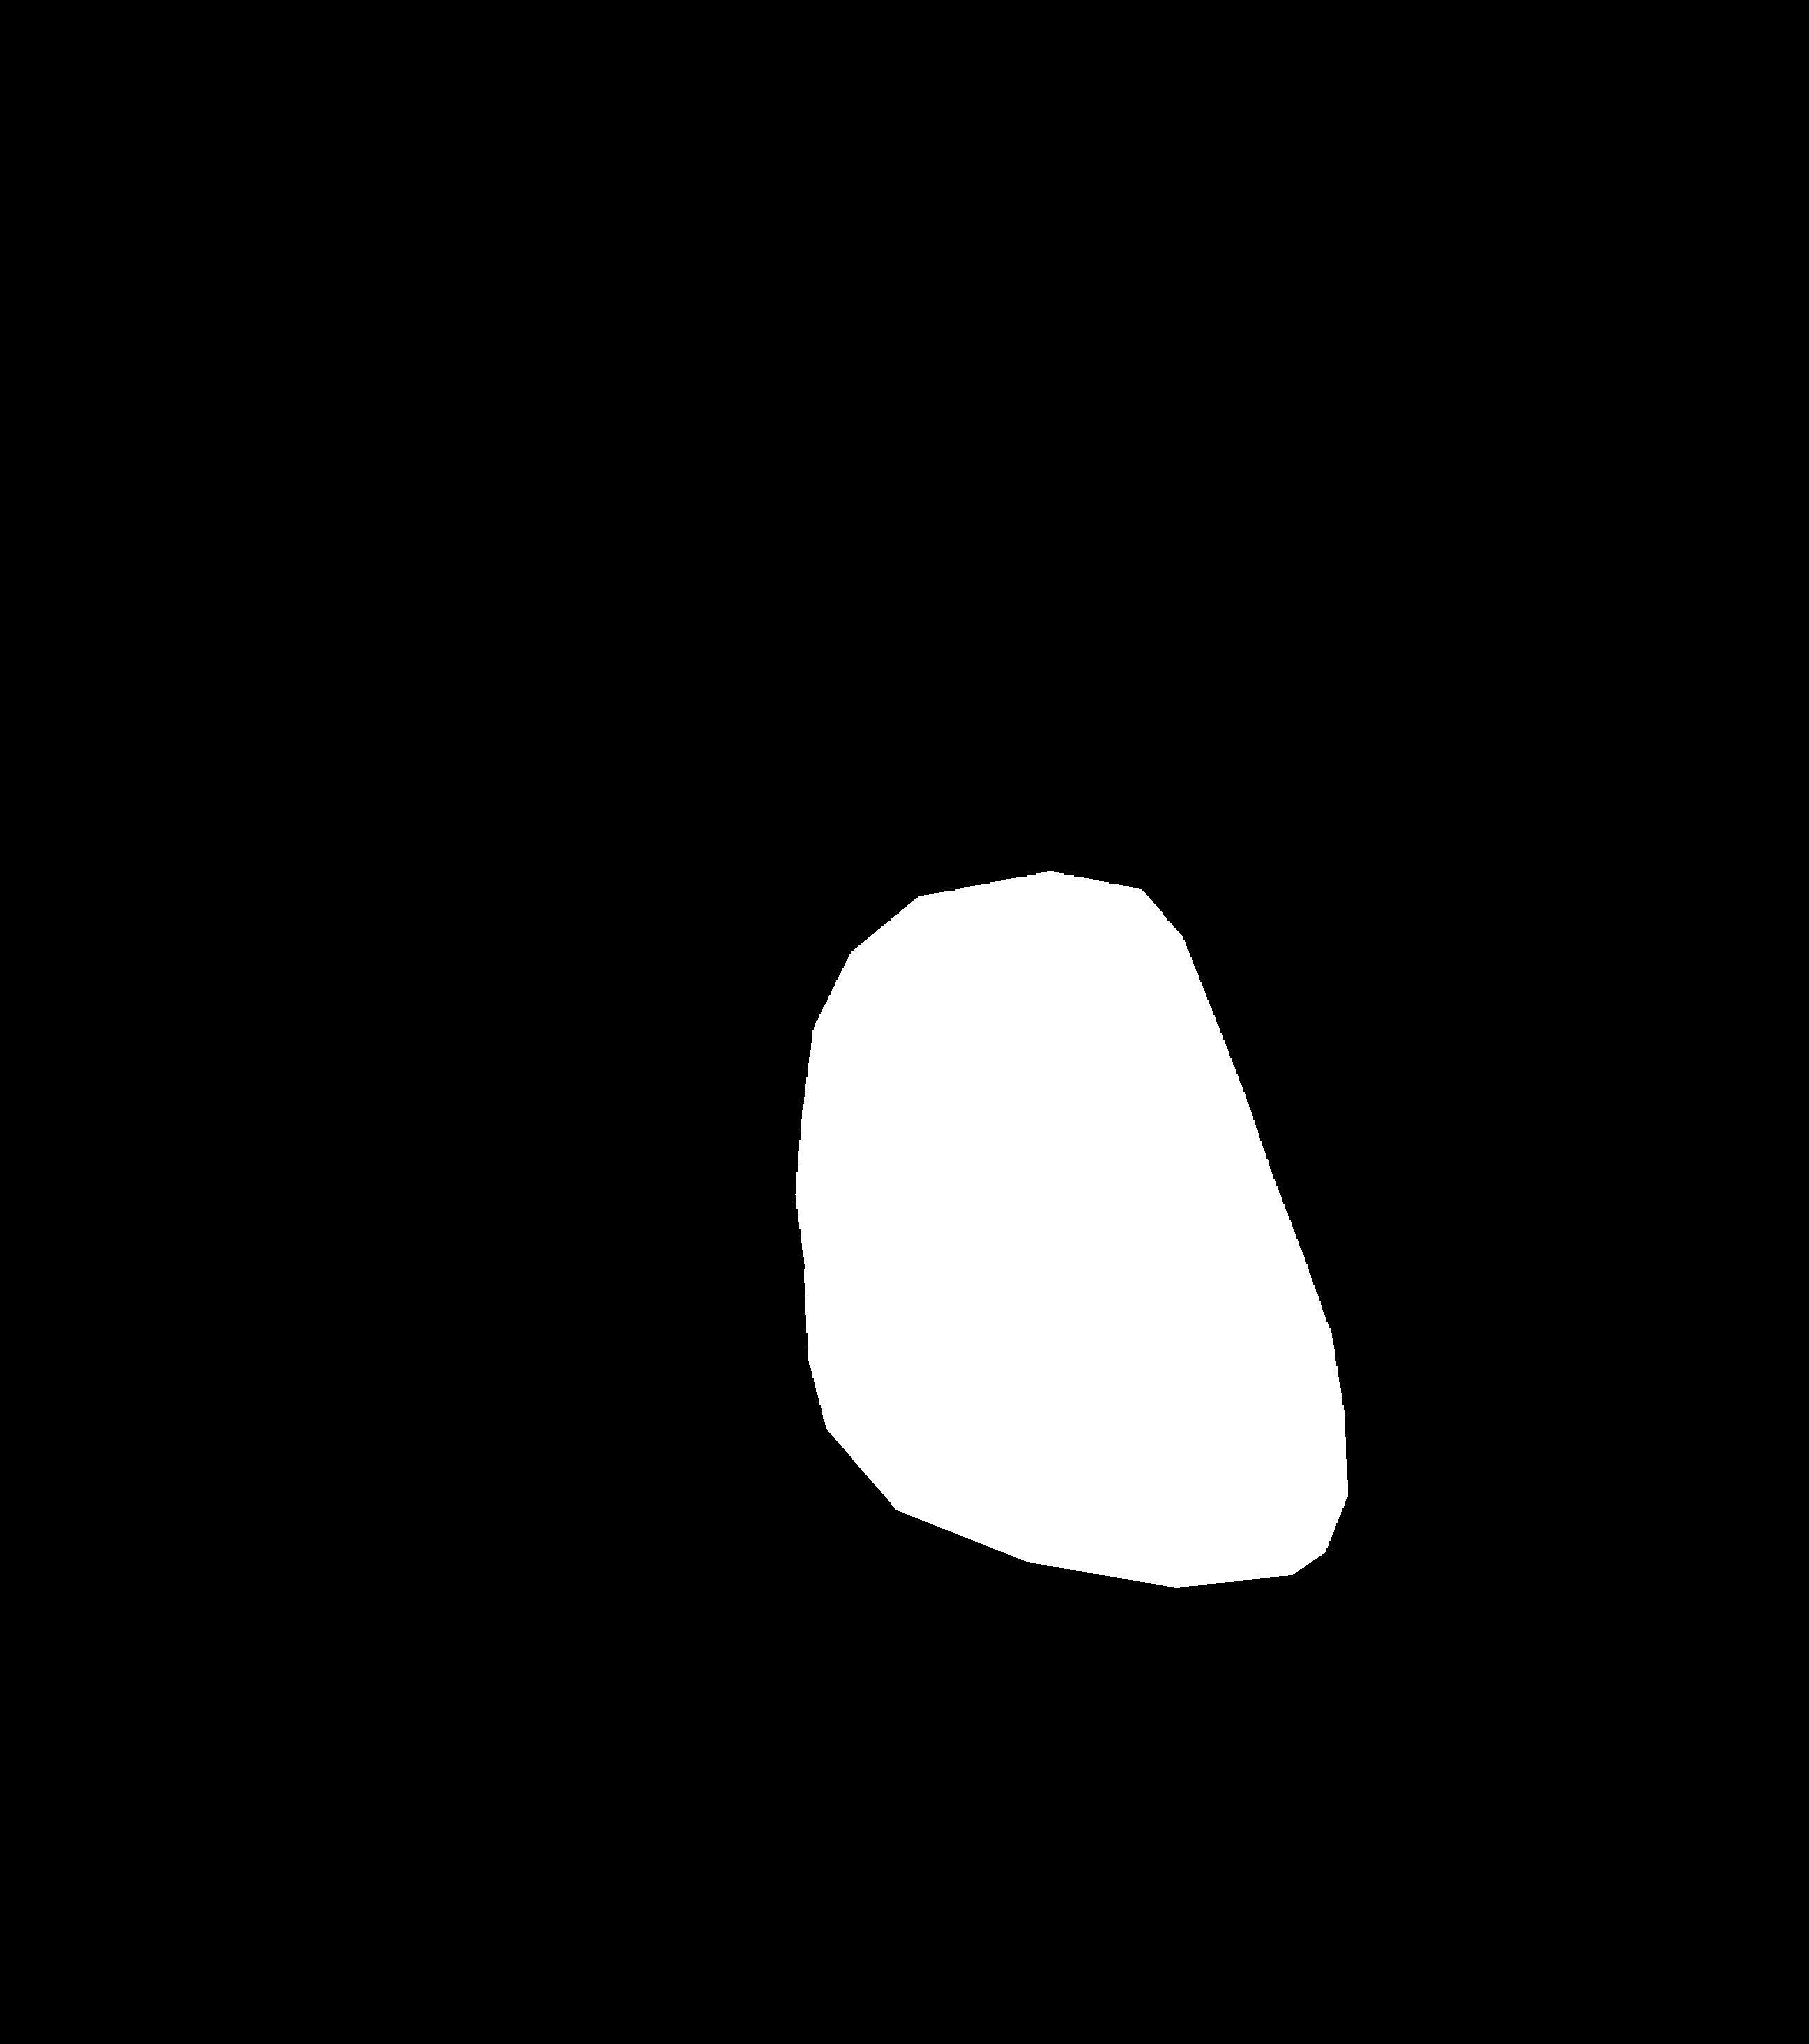heart: (803, 1044, 1348, 1627)
left_lung: (164, 274, 917, 1831)
right_lung: (1046, 264, 1620, 1880)
